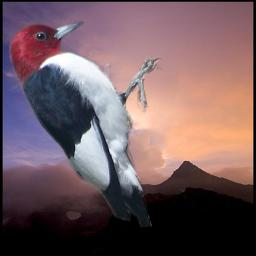Woodpecker: (8, 19, 167, 227)
